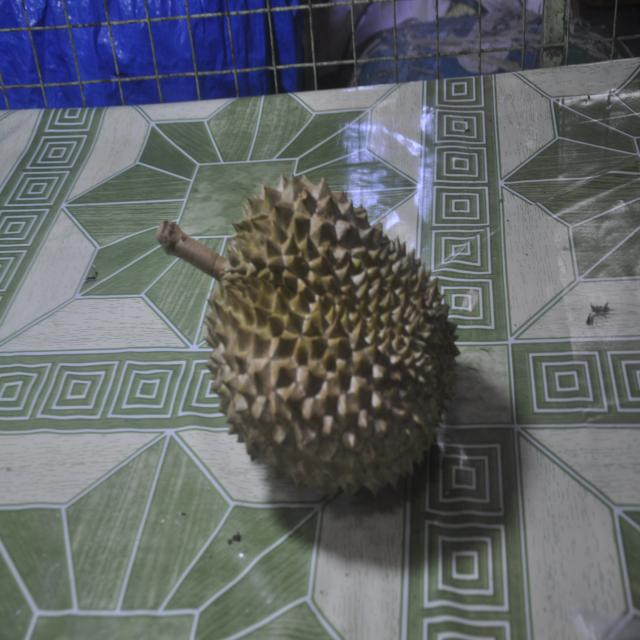mature: (157, 176, 459, 496)
